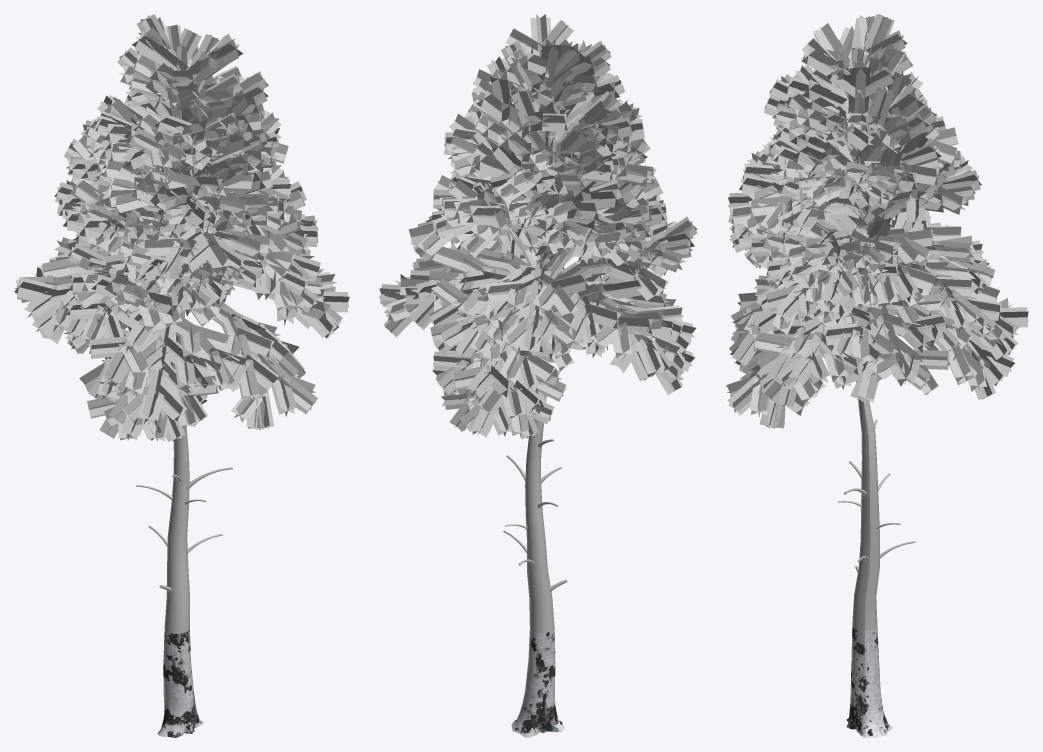
File: 01 _pine 1.FBX
The picture shows the model from 3 angles, left to right: view 1: azimuth 30°, elevation 25°; view 2: azimuth 150°, elevation 25°; view 3: azimuth 270°, elevation 25°; orthographic projection.
Parts seen in each view (by area): view 1: pine 1+; view 2: pine 1+; view 3: pine 1+.
Part boxes in pixels (bbox=[...]): pine 1+: bbox=[14, 14, 349, 737]; pine 1+: bbox=[378, 14, 697, 737]; pine 1+: bbox=[726, 14, 1028, 737].
Size of the model in its own units: 3.58 by 8.41 by 3.28.
